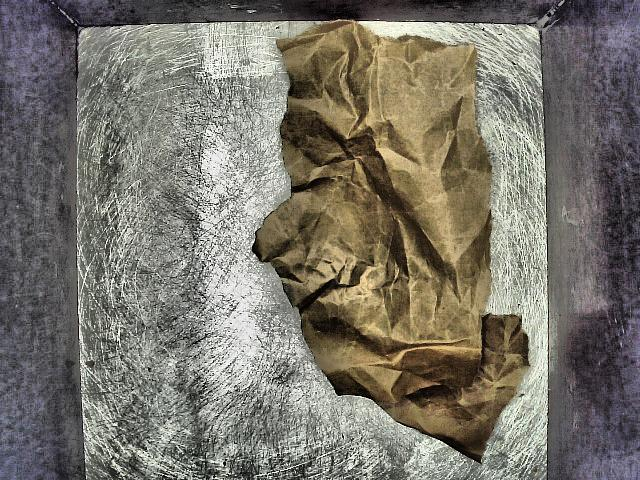Paper: (246, 17, 551, 471)
